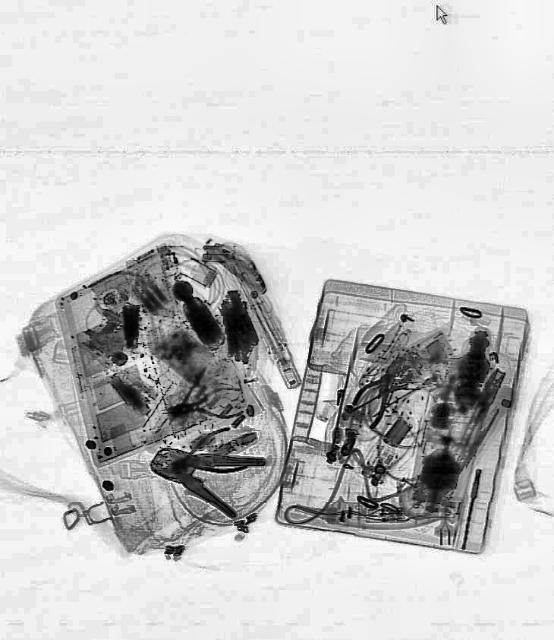Pliers: (142, 418, 268, 524), (344, 340, 420, 430), (164, 422, 250, 488), (158, 384, 246, 428)
